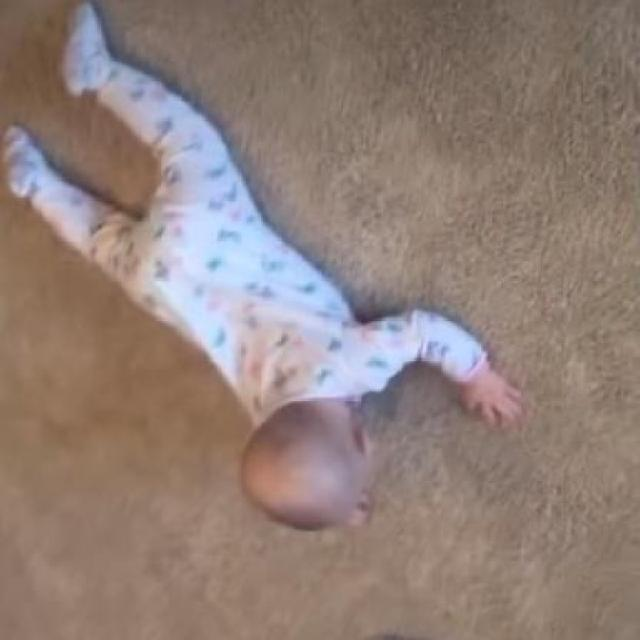baby: (0, 0, 521, 532)
